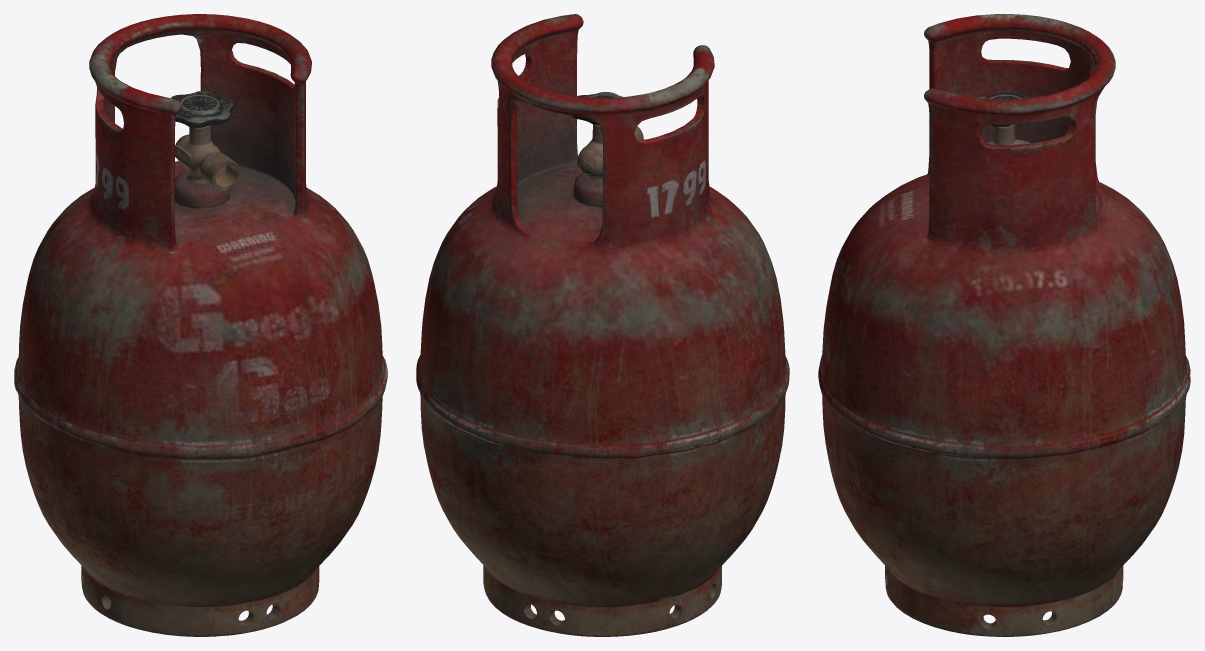
File: small_lpg_tank.glb
3 views of the same model, side by side, from view 1: azimuth 30°, elevation 25°; view 2: azimuth 150°, elevation 25°; view 3: azimuth 270°, elevation 25° (orthographic).
Visible parts, largest first — view 1: small_lpg_tank; view 2: small_lpg_tank; view 3: small_lpg_tank.
Part boxes in pixels (x1=…): small_lpg_tank: x1=14, y1=14, x2=387, y2=636; small_lpg_tank: x1=416, y1=14, x2=789, y2=636; small_lpg_tank: x1=818, y1=14, x2=1190, y2=636.
Size of the model in its own units: 0.41 by 0.642 by 0.4092.
1 material, 1 textured.
